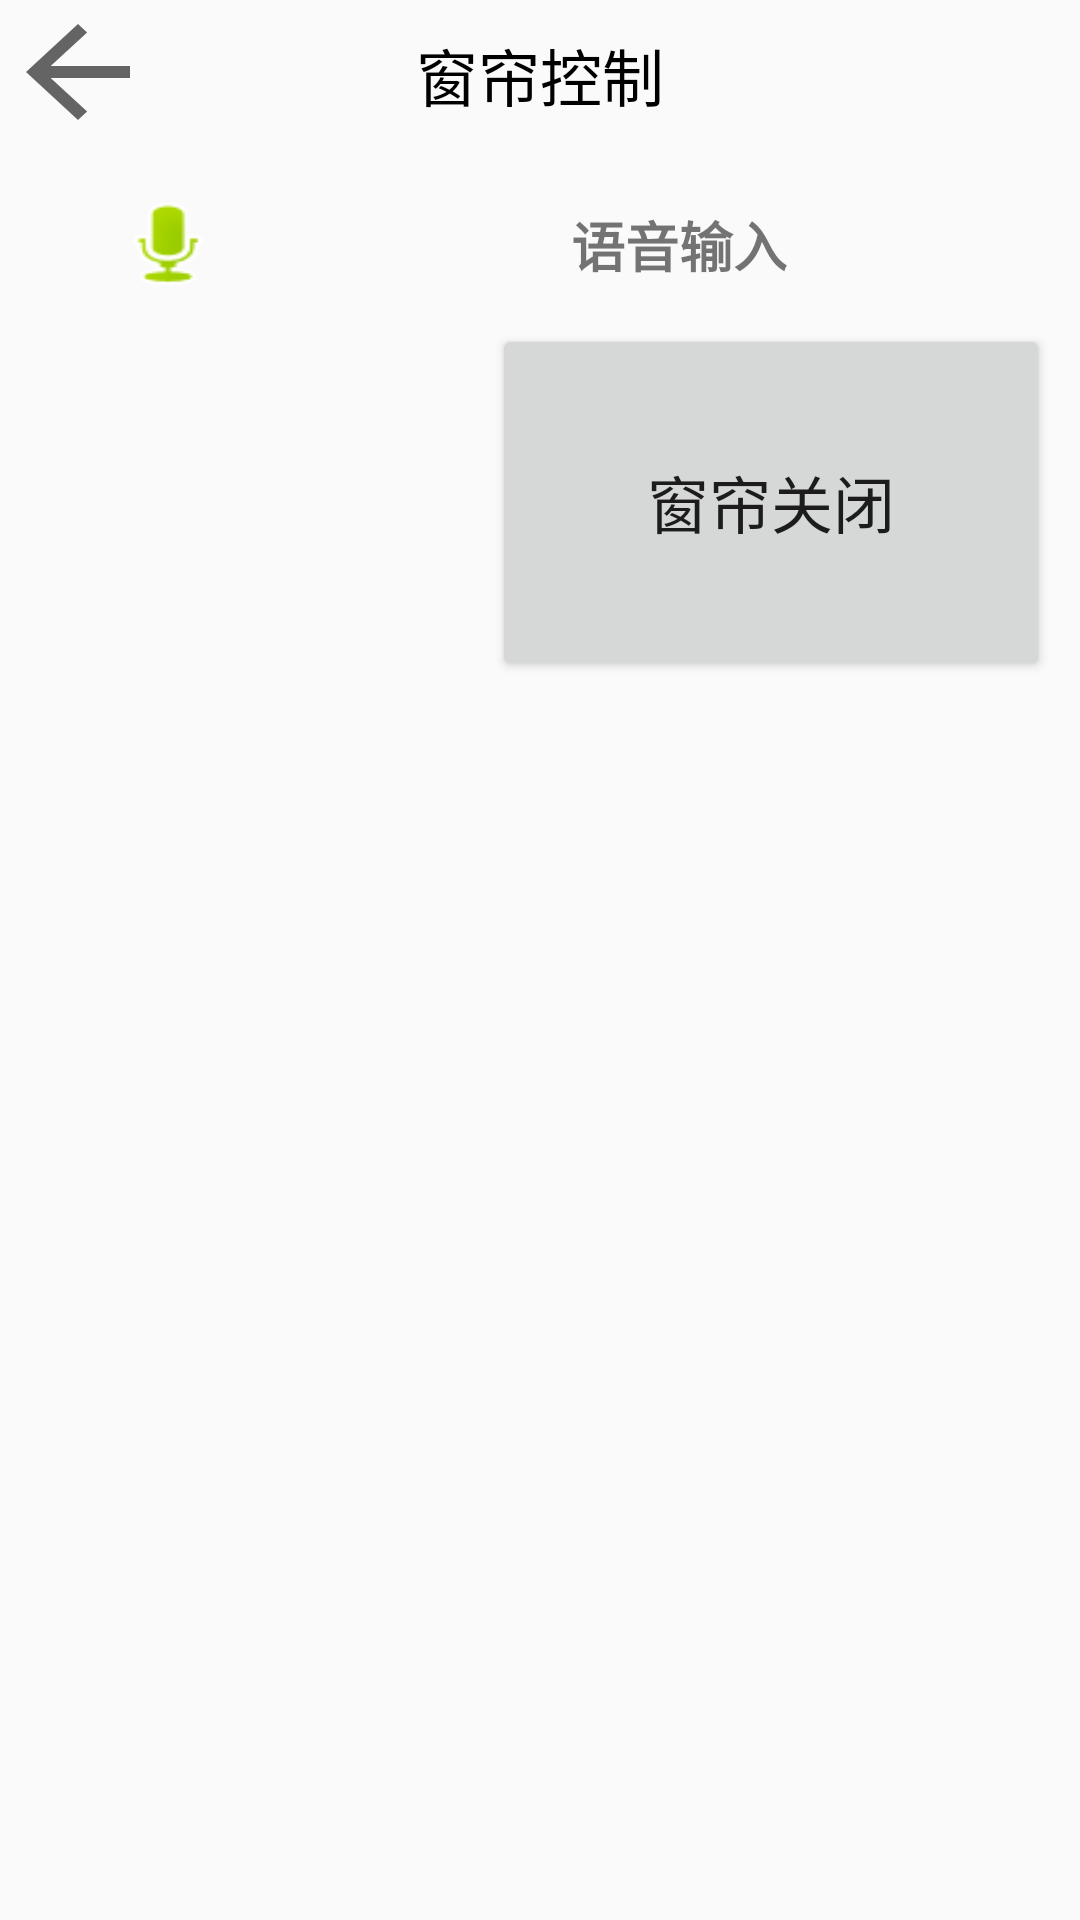

Where to tap for icons on this 1080 x 1920 app screen, as (x=x, y=y):
presence audio online: (x=168, y=243)
